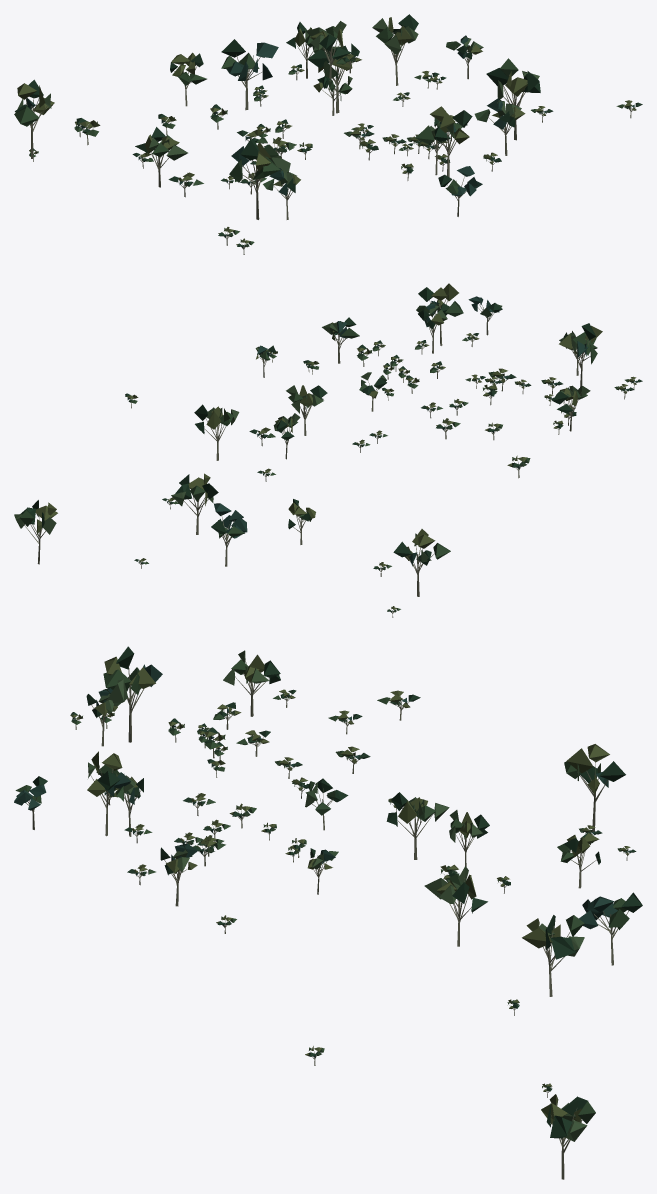
Rendered from forest_18_24.dae.
3 renders of one model, top to bottom at view 1: azimuth 30°, elevation 25°; view 2: azimuth 150°, elevation 25°; view 3: azimuth 270°, elevation 25°, orthographic. The views are drawn at different scales.
Visible parts, largest first — view 1: Node; view 2: Node; view 3: Node.
Boxes of the visible parts, bbox=[...] form: Node: bbox=[14, 14, 642, 254]; Node: bbox=[14, 283, 642, 617]; Node: bbox=[14, 646, 642, 1179].
Bounding box in the file's own units: 10.34 × 9.44 × 4.71.
